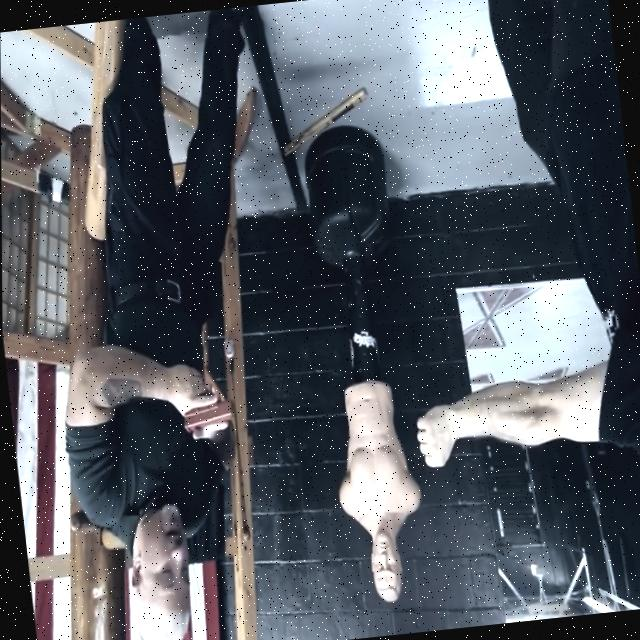pistol: (178, 378, 237, 435)
